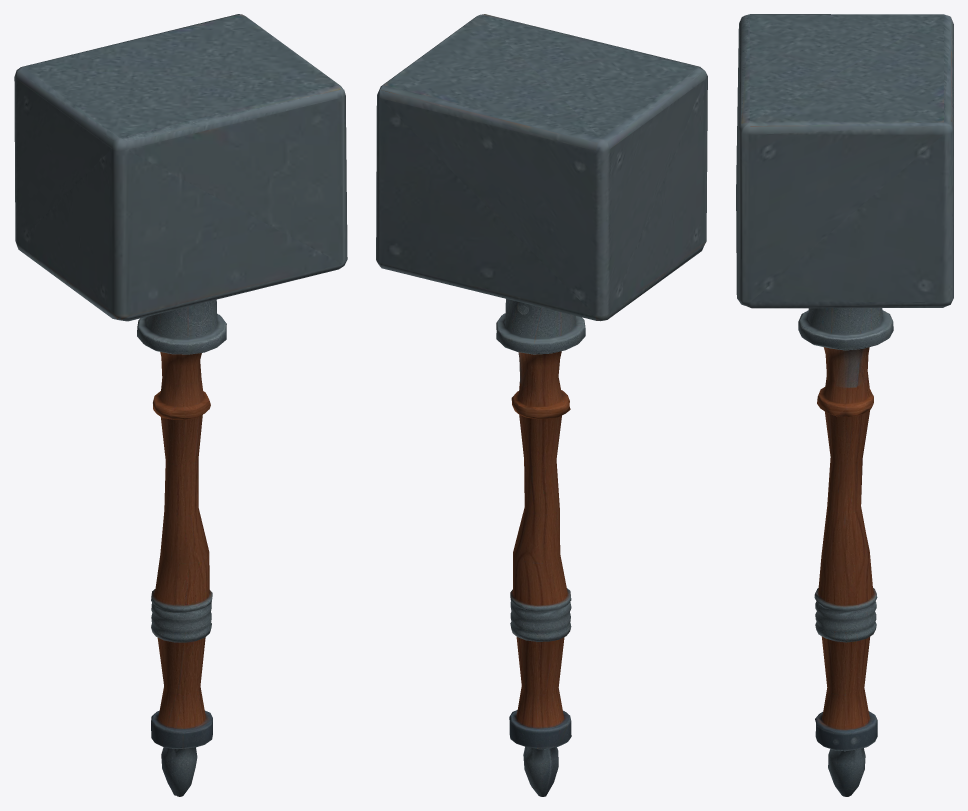
File: hammer.glb
3 renders of one model, left to right at view 1: azimuth 30°, elevation 25°; view 2: azimuth 150°, elevation 25°; view 3: azimuth 270°, elevation 25°, orthographic.
Size of the model in its own units: 0.3227 by 0.9512 by 0.2578.
Materials: 1 (1 with a texture image).
